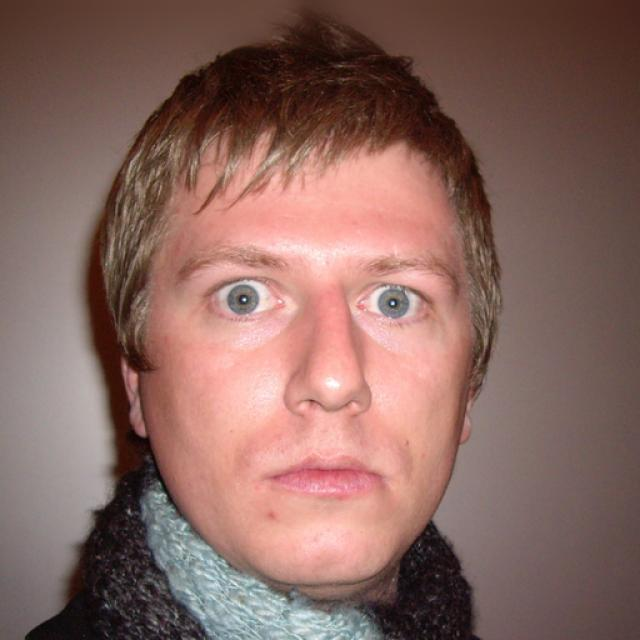fear: (144, 128, 472, 584)
